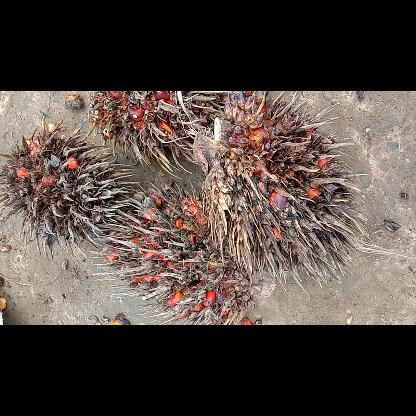Terlalu masak: (188, 90, 376, 292), (86, 176, 282, 324), (0, 112, 143, 265), (80, 91, 242, 181)
